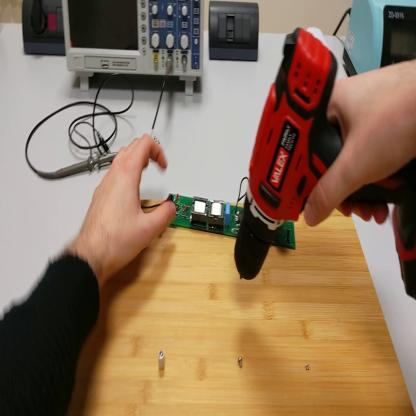electric screwdriver: (235, 28, 416, 300)
hand: (305, 62, 414, 241), (82, 132, 176, 278)
high voltage board: (141, 177, 298, 247)
oscilloscope: (66, 1, 206, 97)
oscilloscope probe tip: (57, 149, 120, 179)
socket: (22, 2, 68, 59)
welder station: (345, 3, 416, 77)
working area: (74, 198, 415, 416)
